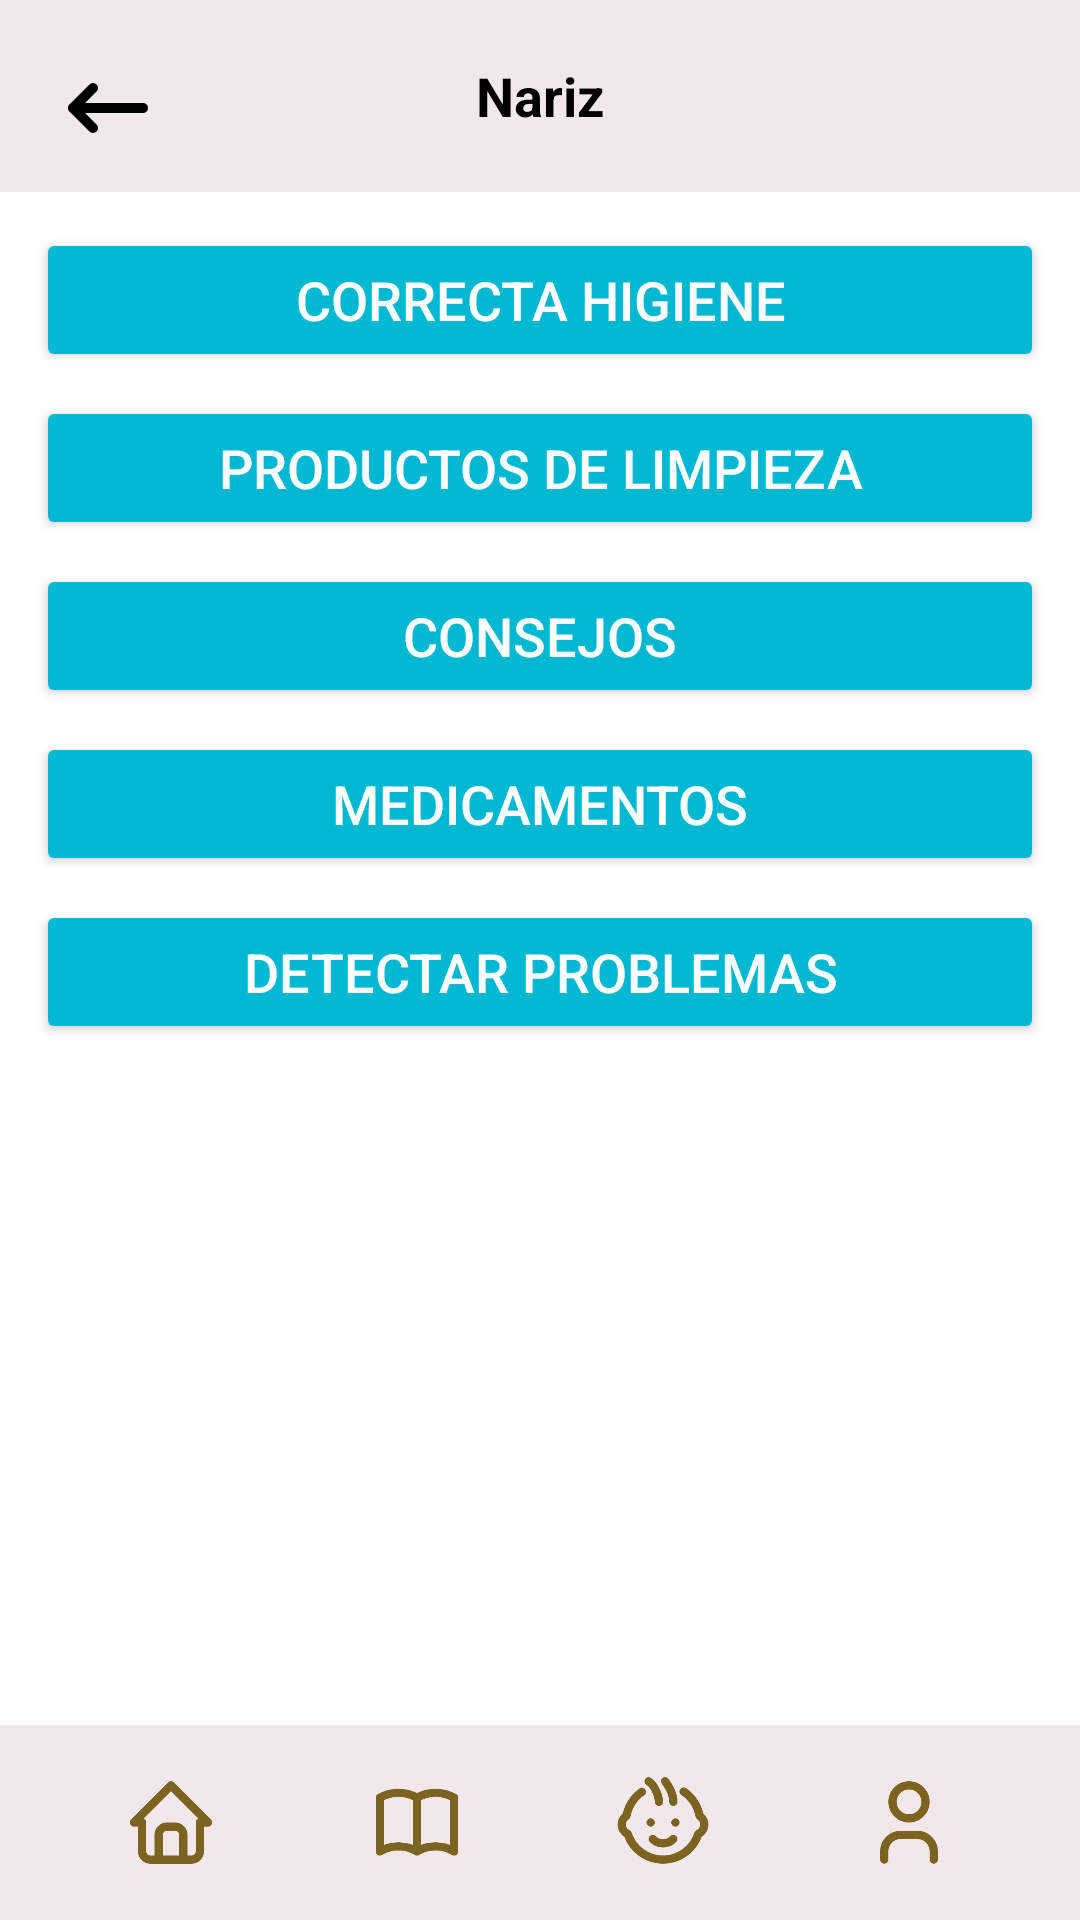

Locate icon controls on the screen. Image size 1080 x 1920, boxes as (x1, y1, x2, y2).
book: (376, 1789, 458, 1856)
home: (130, 1781, 212, 1864)
moodboy: (617, 1777, 709, 1864)
personaa: (880, 1781, 938, 1864)
